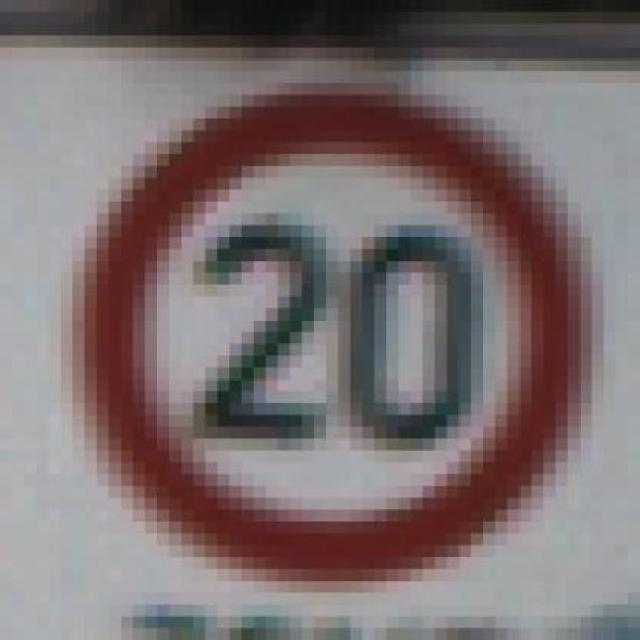forb_speed_over_20: (92, 92, 583, 579)
